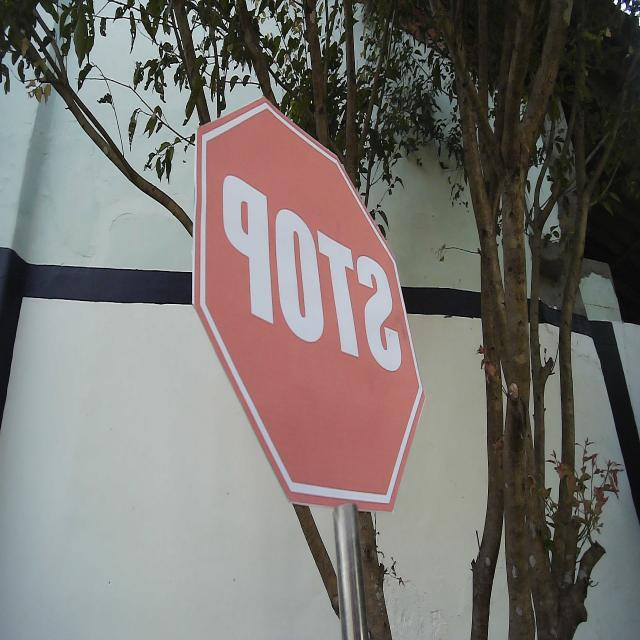stop: (188, 92, 428, 516)
